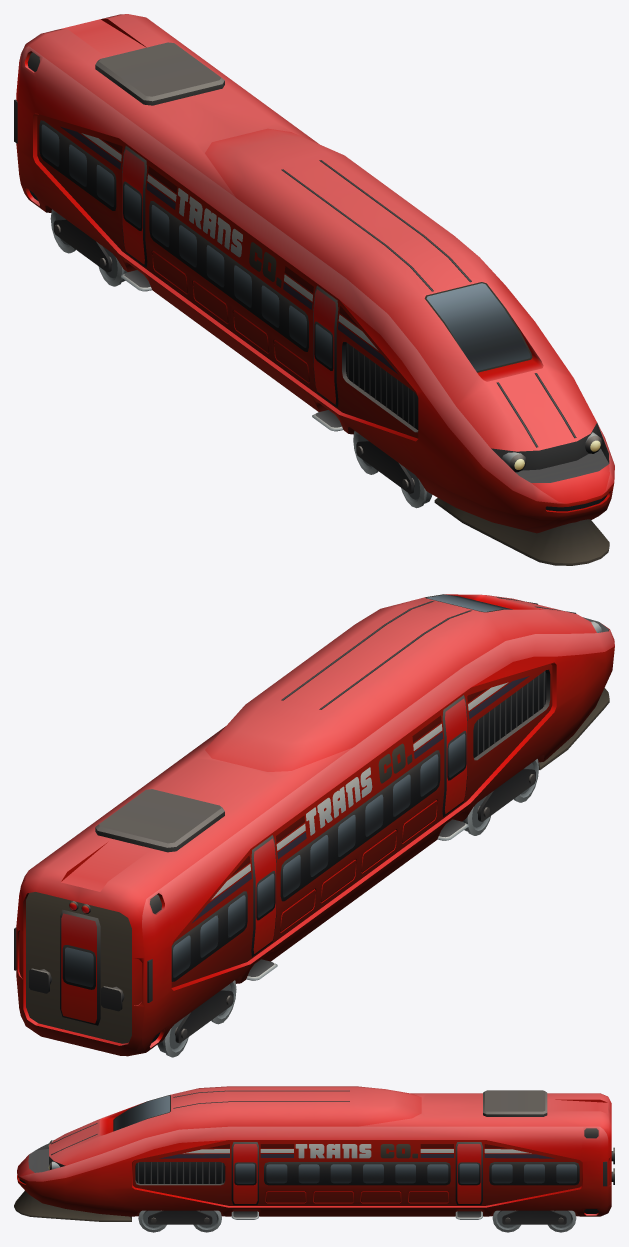
File: Train_Cart_3B.fbx
The picture shows the model from 3 angles, top to bottom: view 1: azimuth 30°, elevation 25°; view 2: azimuth 150°, elevation 25°; view 3: azimuth 270°, elevation 25°; orthographic projection. The views are drawn at different scales.
Visible parts, largest first — view 1: Train_Cart_3B, Train_Cart_3B_Livery; view 2: Train_Cart_3B, Train_Cart_3B_Livery; view 3: Train_Cart_3B, Train_Cart_3B_Livery, Train_Cart_3B_Wheel_R.L, Train_Cart_3B_Wheel_M2.L, Train_Cart_3B_Wheel_M1.L, Train_Cart_3B_Wheel_F.L.
Boxes of the visible parts, box(x1,y1,x2,y2) form: Train_Cart_3B: box(14, 14, 614, 565); Train_Cart_3B_Livery: box(60, 126, 398, 374); Train_Cart_3B: box(14, 594, 614, 1056); Train_Cart_3B_Livery: box(192, 676, 529, 922); Train_Cart_3B: box(14, 1086, 614, 1224); Train_Cart_3B_Livery: box(159, 1144, 554, 1158); Train_Cart_3B_Wheel_R.L: box(548, 1210, 576, 1232); Train_Cart_3B_Wheel_M2.L: box(492, 1210, 520, 1232); Train_Cart_3B_Wheel_M1.L: box(193, 1210, 221, 1232); Train_Cart_3B_Wheel_F.L: box(138, 1210, 166, 1232).
Bounding box in the file's own units: 2.92 × 4.12 × 18.66.
